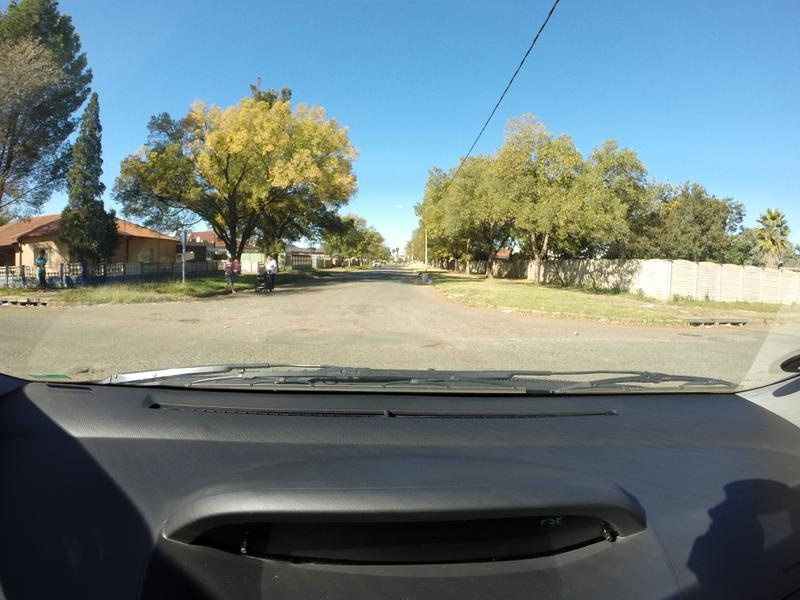pothole: (410, 334, 438, 357), (73, 357, 99, 377), (286, 323, 314, 340), (173, 314, 205, 325)
